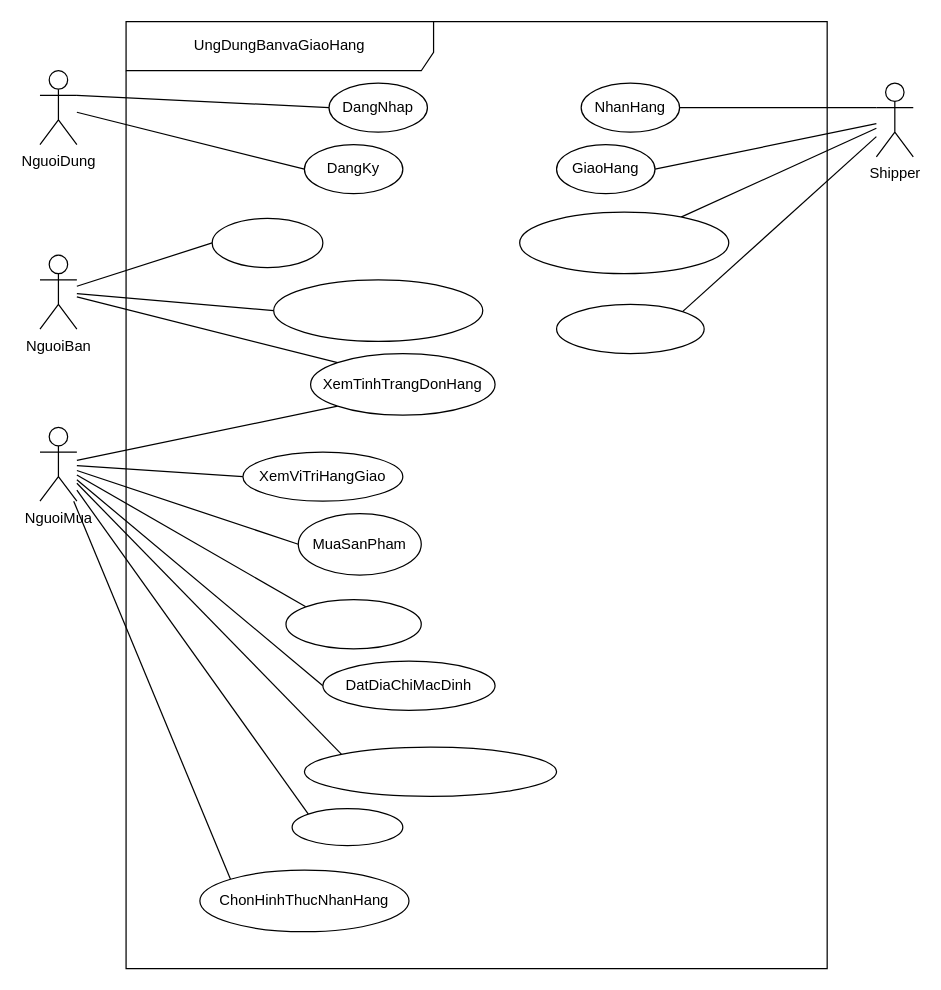
This 941x990 diagram has some shape labels left out. Here are the shapes that lost their labels. From the top down, the centre of each, then its label:
At [267,242]: "DangSanPham".
At [623,242]: "XacNhanTInhTrangDonHang".
At [377,310]: "ChonHinhThucGuiHang".
At [629,328]: "XemChuoiGiaoHang".
At [353,623]: "ThemDiaChi".
At [430,771]: "XemThoiGianGiaoHangUocLuong".
At [347,826]: "ThanhToan".
